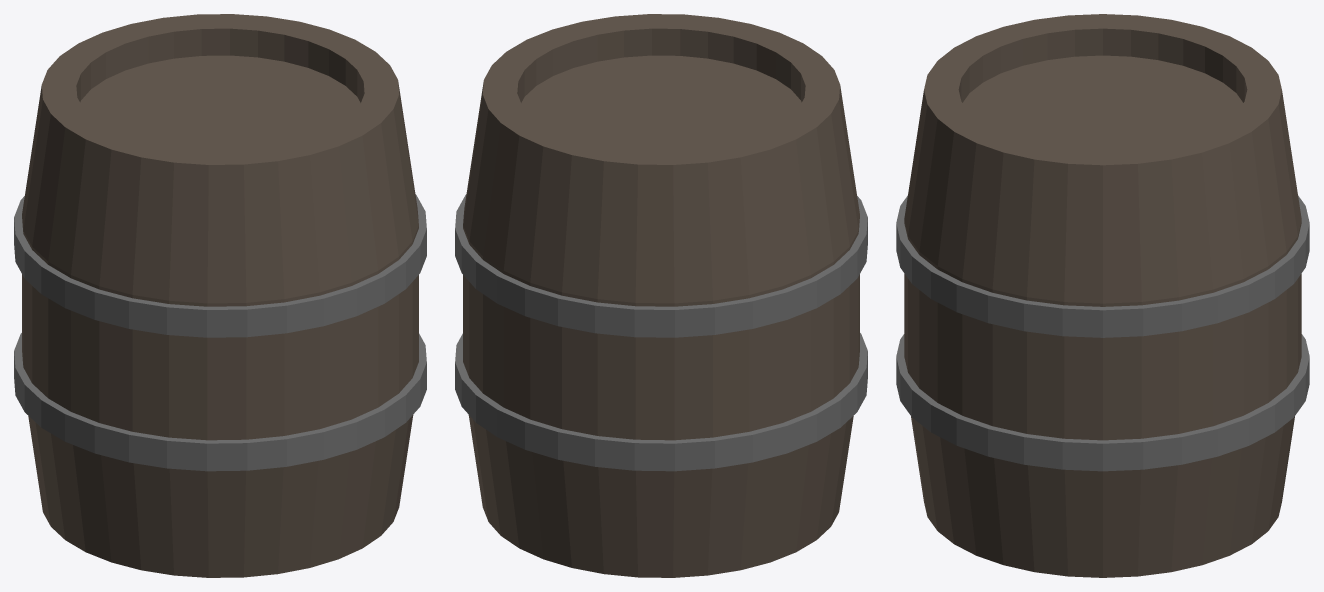
The model's file is Barrel.fbx.
The picture shows the model from 3 angles, left to right: view 1: azimuth 30°, elevation 25°; view 2: azimuth 150°, elevation 25°; view 3: azimuth 270°, elevation 25°; orthographic projection.
Visible parts, largest first — view 1: Cylinder, Cylinder.001, Cylinder.002; view 2: Cylinder, Cylinder.001, Cylinder.002; view 3: Cylinder, Cylinder.001, Cylinder.002.
Boxes of the visible parts, bbox=[...] form: Cylinder: bbox=[22, 14, 418, 577]; Cylinder.001: bbox=[14, 194, 426, 337]; Cylinder.002: bbox=[14, 333, 426, 471]; Cylinder: bbox=[463, 14, 859, 577]; Cylinder.001: bbox=[455, 194, 867, 337]; Cylinder.002: bbox=[455, 333, 867, 471]; Cylinder: bbox=[904, 14, 1301, 577]; Cylinder.001: bbox=[896, 195, 1309, 337]; Cylinder.002: bbox=[896, 334, 1309, 471].
Size of the model in its own units: 231 by 254 by 231.
